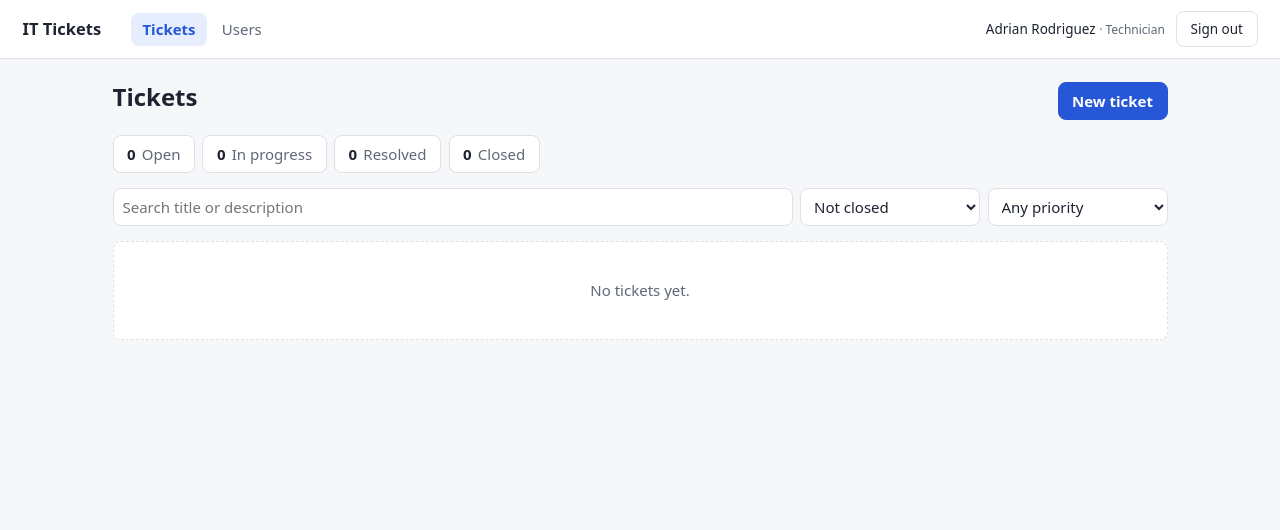
Scenario: sign-in › keeps a signed-in user signed in across a reload, and signs out
Expected: the heading "Tickets" is shown, [112,82,198,112]
Click the button "Sign out": coordinates (1217, 29) [1176,11,1258,47]
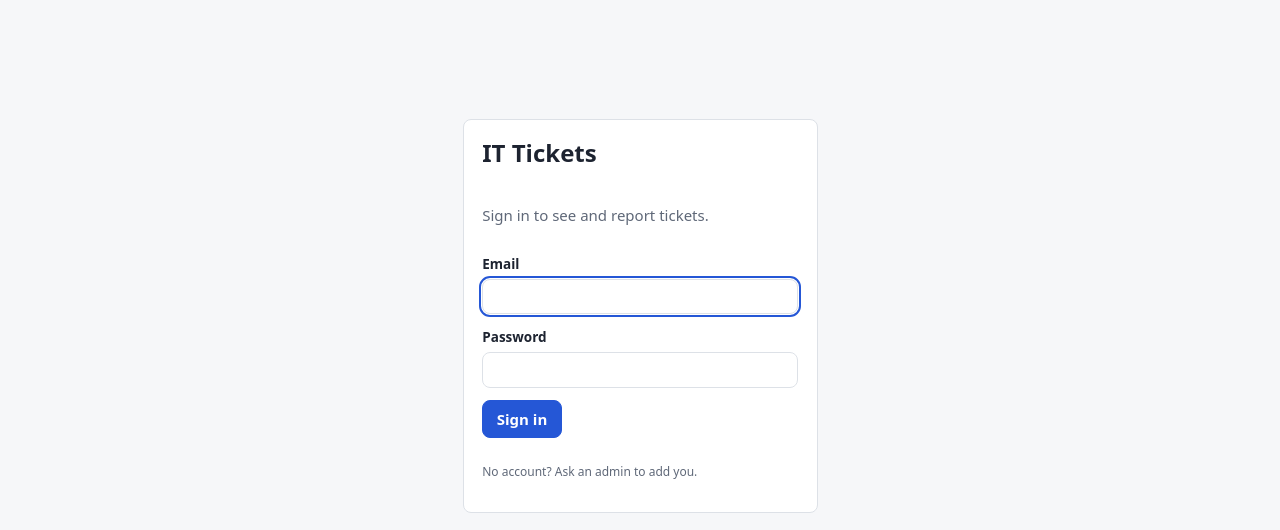
Expected: the form "Sign in" is shown, [462,118,818,513]
